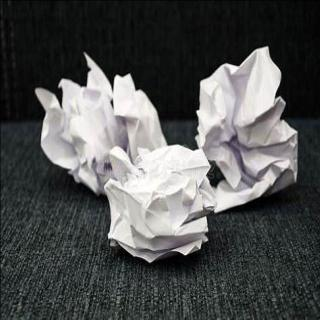Anorganik: (191, 39, 300, 207), (34, 48, 158, 184), (102, 141, 214, 265)
